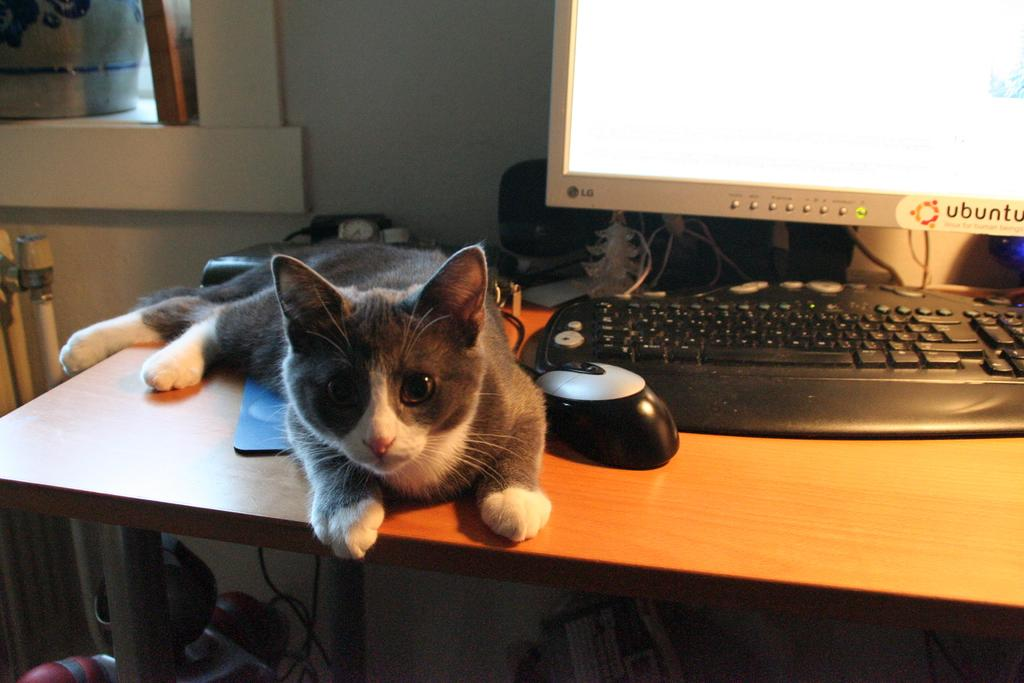Computer-mouse: (530, 354, 679, 465)
